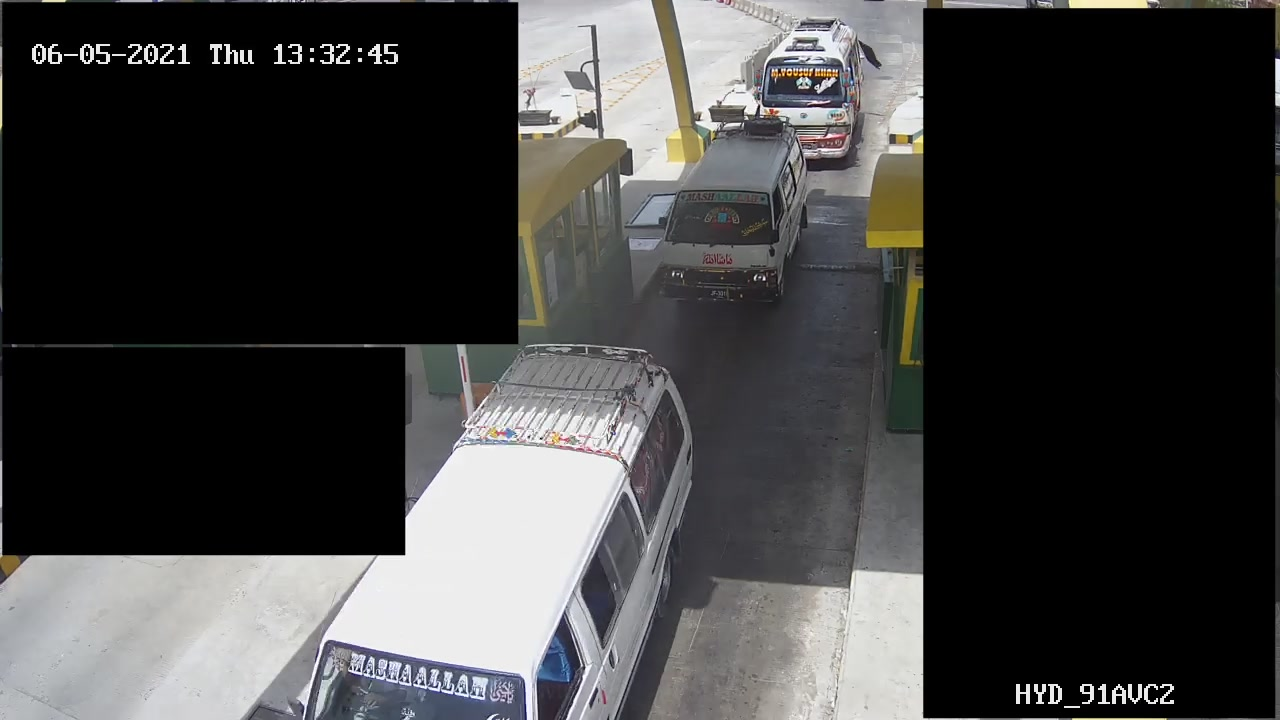F2: (653, 120, 809, 324)
